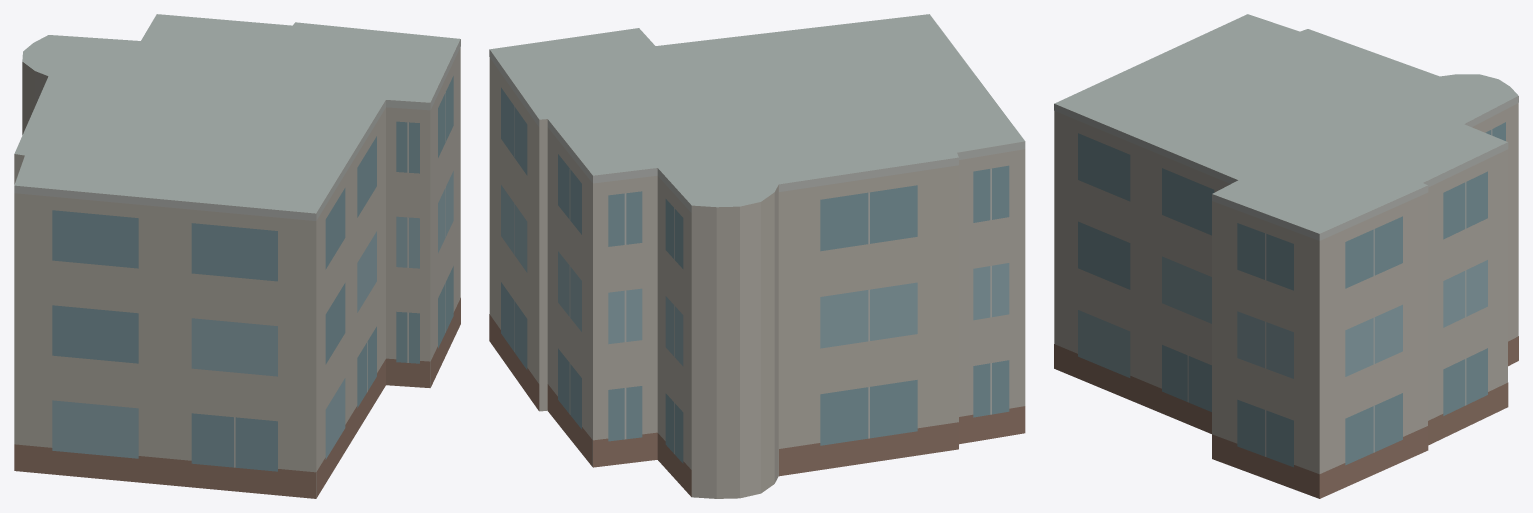
The model's file is survey-upis-32919963.glb.
The picture shows the model from 3 angles, left to right: view 1: azimuth 30°, elevation 25°; view 2: azimuth 150°, elevation 25°; view 3: azimuth 270°, elevation 25°; orthographic projection. The views are drawn at different scales.
Parts seen in each view (by area): view 1: survey-upis-32919963.tmp; view 2: survey-upis-32919963.tmp; view 3: survey-upis-32919963.tmp.
Boxes of the visible parts, left/top/right/bottom form: survey-upis-32919963.tmp: left=14, top=14, right=460, bottom=498; survey-upis-32919963.tmp: left=489, top=14, right=1025, bottom=498; survey-upis-32919963.tmp: left=1054, top=14, right=1518, bottom=498.
Bounding box in the file's own units: 16.29 × 9.15 × 14.54.
